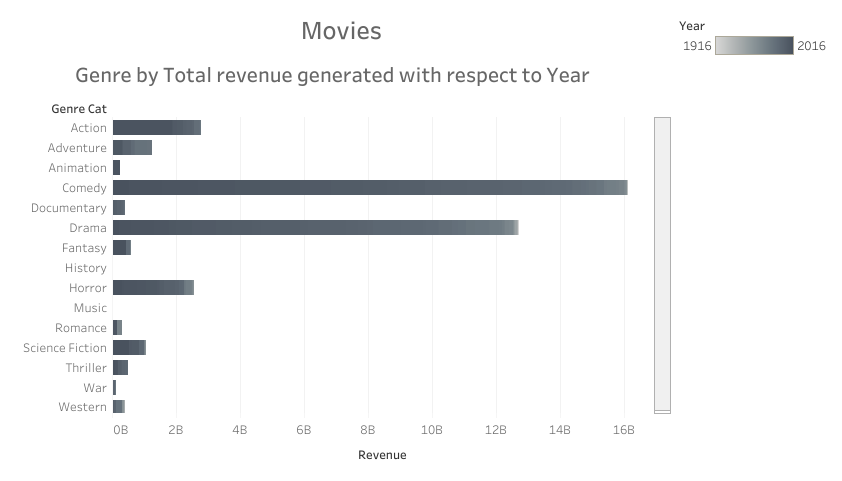

The page's visual inventory and layout, read from the dashboard file:
{"tool":"tableau","page":{"name":"Movies Dashboard","canvas":[1000,1000],"units":"permille","ordinal":0},"visuals":[{"type":"title","box":[9.5,14.8,791.2,77.9]},{"type":"legend","title":"Movies Sheet","param":"[federated.0odmfga1yxc5zg1akb1t90ciguin].[none:year:qk]","box":[800.7,14.8,189.8,126.2]},{"type":"worksheet","title":"Movies Sheet","mark":"Automatic","rows":["genreCat"],"cols":["revenue"],"box":[9.5,92.8,791.2,892.4]}]}

Visuals, with their boxes on the dashboard's canvas, which has no fixed pixel size, in thousandths of its width and height (x1, y1, x2, y2). These are canvas units, not pixel positions in the 842x481 screenshot, which may show the page scaled, cropped or inside an application window:
title: [10,15,801,93]
"Movies Sheet" legend: [801,15,990,141]
"Movies Sheet" worksheet: [10,93,801,985]
